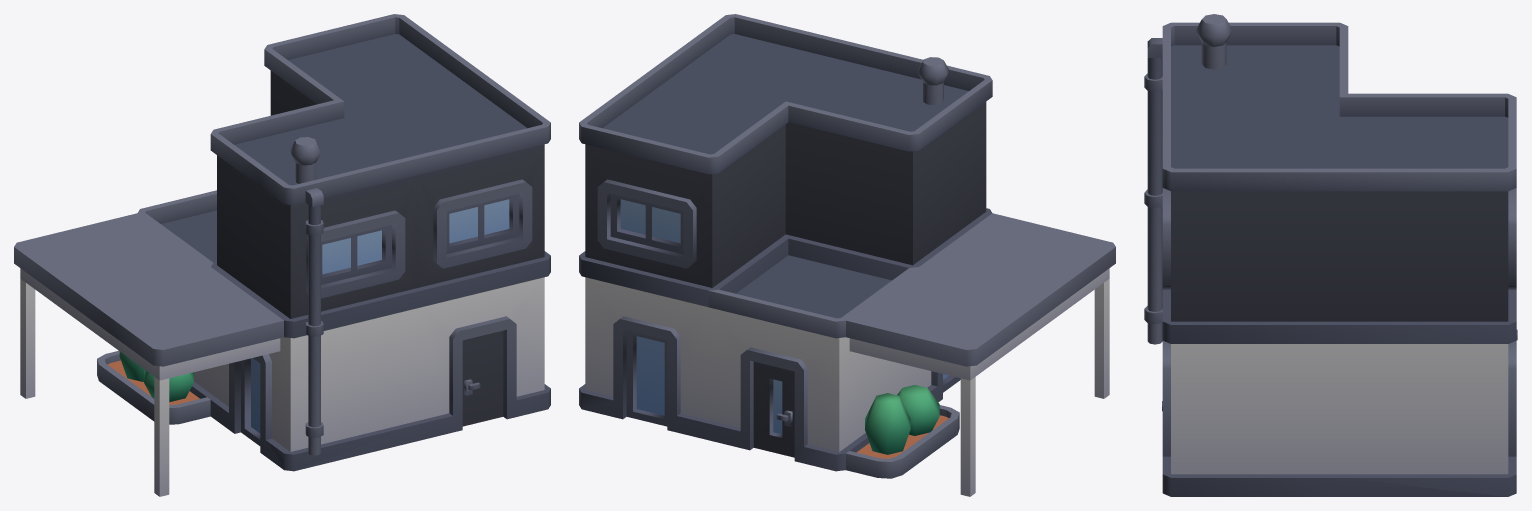
The model's file is house-cantilever.glb.
3 renders of one model, left to right at view 1: azimuth 30°, elevation 25°; view 2: azimuth 150°, elevation 25°; view 3: azimuth 270°, elevation 25°, orthographic. The views are drawn at different scales.
Visible parts, largest first — view 1: KenneySuburban_q; view 2: KenneySuburban_q; view 3: KenneySuburban_q.
Part boxes in pixels (bbox=[...]): KenneySuburban_q: bbox=[14, 14, 550, 496]; KenneySuburban_q: bbox=[579, 14, 1115, 496]; KenneySuburban_q: bbox=[1144, 14, 1517, 496].
Size of the model in its own units: 6.82 by 5.05 by 4.87.
